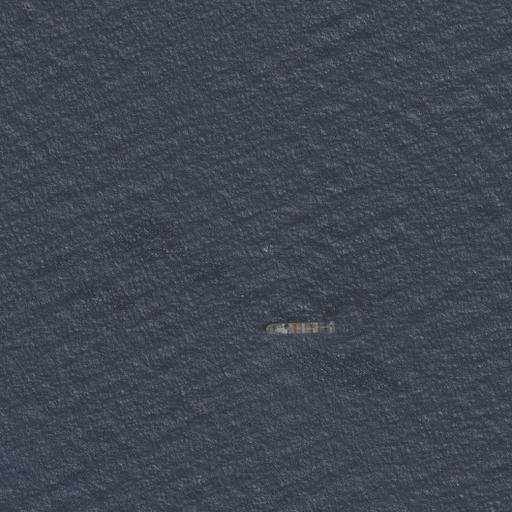ship: (263, 318, 340, 338)
